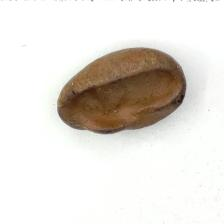NG: (59, 65, 183, 134)
